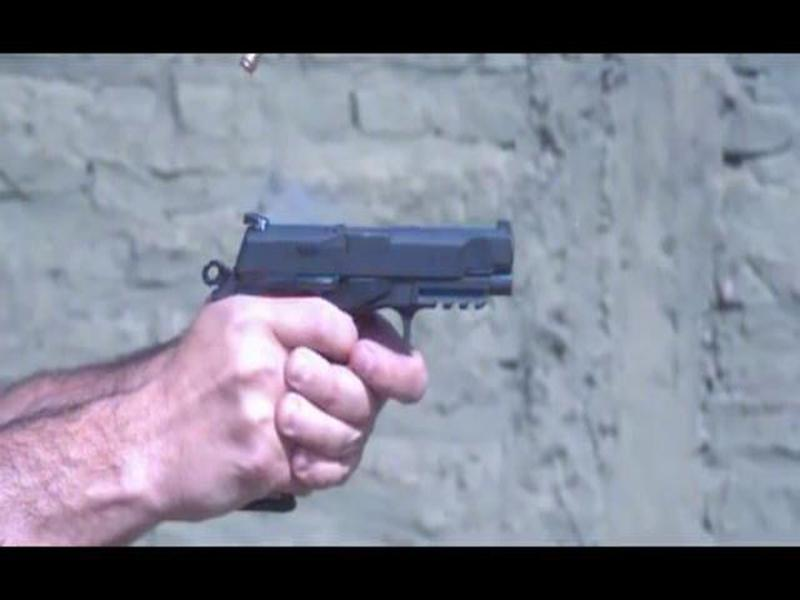Pistola: (198, 197, 524, 403)
